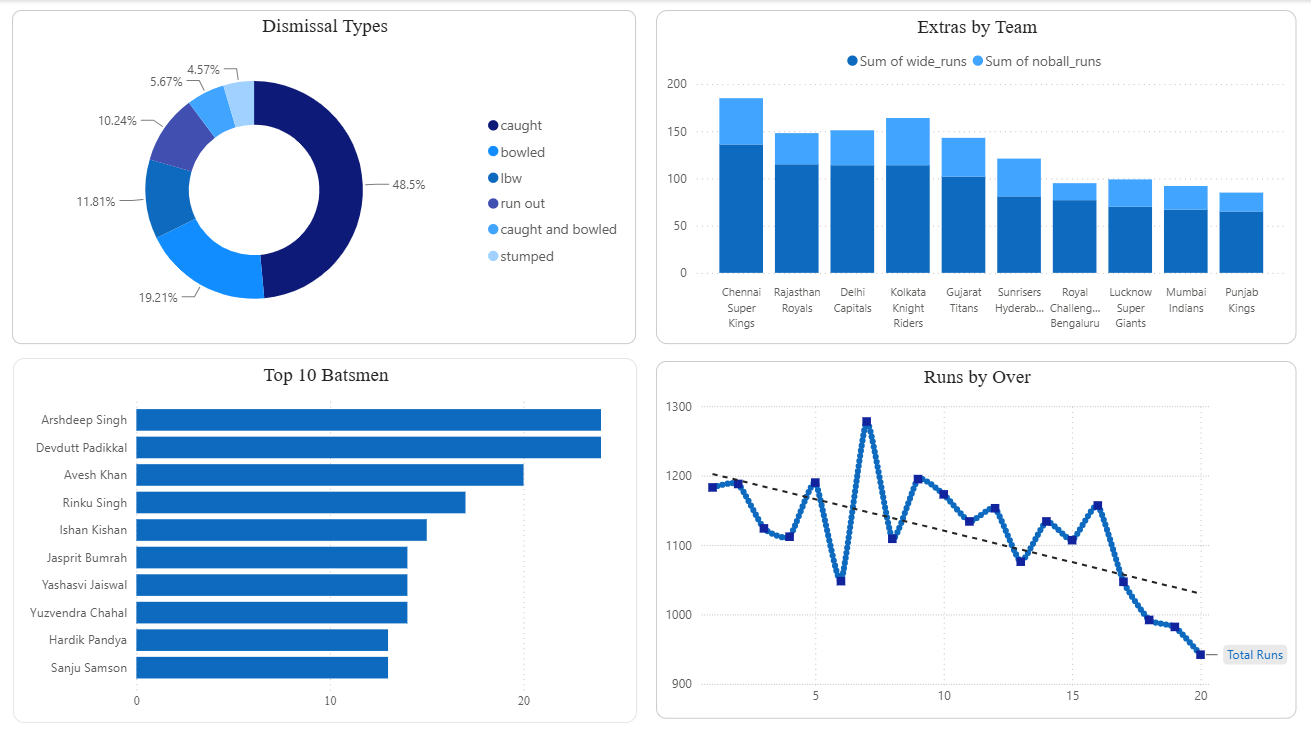

Layout of this report page (visuals, bound fields, positions):
{"tool":"powerbi","page":{"name":"🏏Player Performance Dashboard","canvas":[1280,720],"ordinal":1},"visuals":[{"type":"clusteredBarChart","title":"Top 10 Batsmen","fields":{"Category":["deliveries_clean.batsman"],"Y":["CountNonNull(deliveries_clean.ball)"]},"box":[14.4,348.1,606.7,354.8],"z":0},{"type":"lineChart","title":"Runs by Over","fields":{"Category":["deliveries_clean.over"],"Y":["Sum(deliveries_clean.total_runs)"]},"box":[640,351,623,348],"z":1000},{"type":"donutChart","title":"Dismissal Types","fields":{"Category":["deliveries_clean.dismissal_kind"],"Y":["CountNonNull(deliveries_clean.player_dismissed)"]},"box":[14,10,607,325],"z":2000},{"type":"lineStackedColumnComboChart","title":"Extras by Team","fields":{"Category":["deliveries_clean.batting_team"],"Y":["Sum(deliveries_clean.wide_runs)","Sum(deliveries_clean.noball_runs)"]},"box":[640,10,623,325],"z":3000}]}

Visuals, with their boxes in screenshot pixels (x1, y1, x2, y2), scaled from the page's 1280x720 canvas onto the 1311x736 screenshot:
"Top 10 Batsmen" clusteredBarChart: [15,356,636,719]
"Runs by Over" lineChart: [656,359,1294,715]
"Dismissal Types" donutChart: [14,10,636,342]
"Extras by Team" lineStackedColumnComboChart: [656,10,1294,342]
